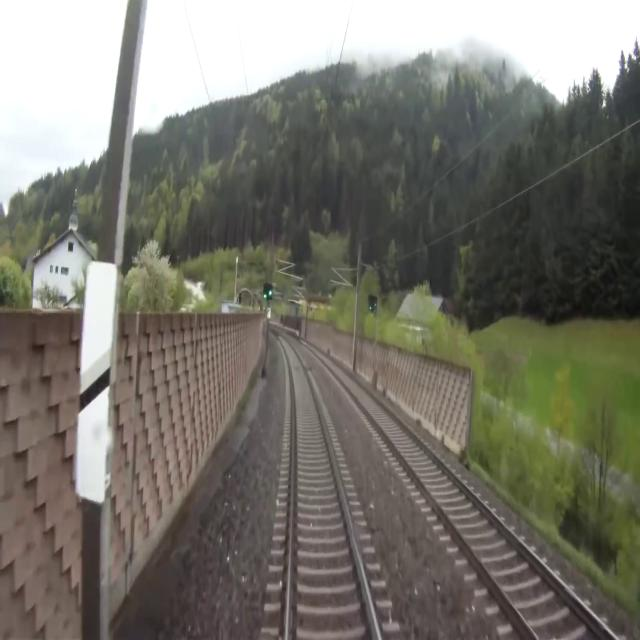rail-track: (317, 351, 612, 639), (279, 336, 377, 639)
